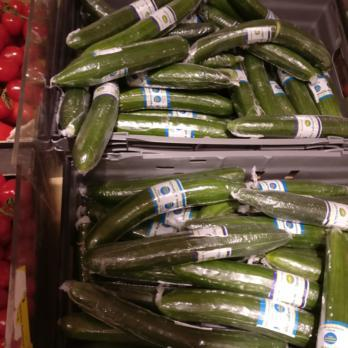Cucumber: (78, 167, 348, 347), (54, 0, 345, 138)
